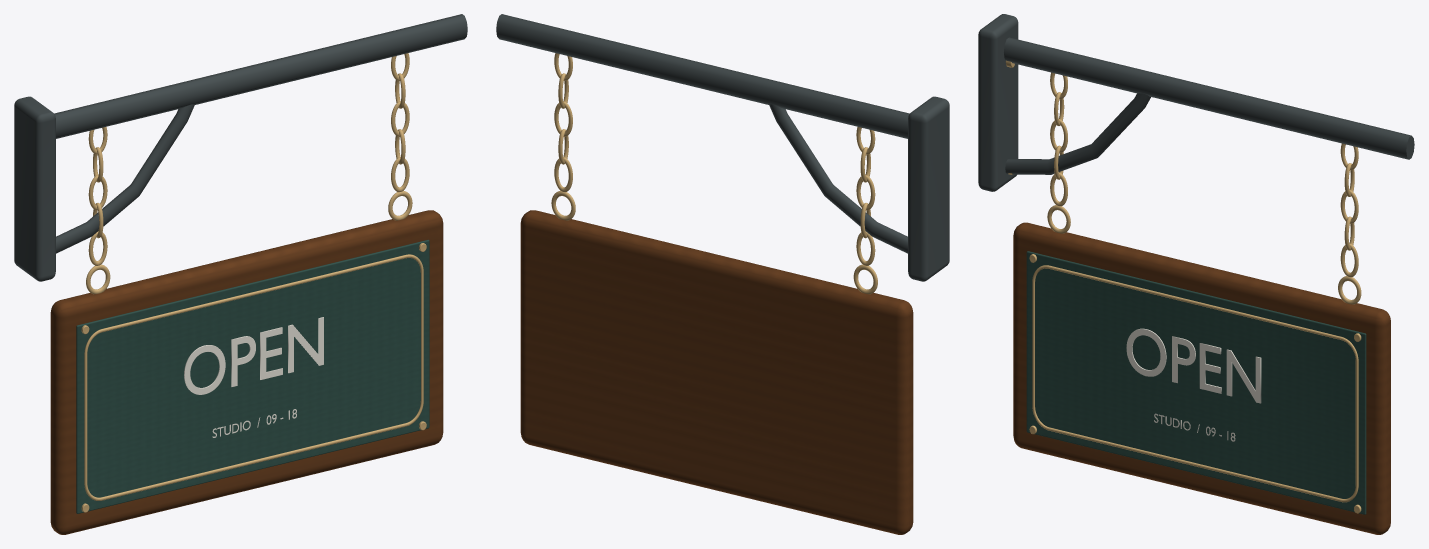
File: hanging_sign.glb
3 renders of one model, left to right at view 1: azimuth 30°, elevation 25°; view 2: azimuth 150°, elevation 25°; view 3: azimuth 330°, elevation 25°, orthographic. The views are drawn at different scales.
Visible parts, largest first — view 1: GEO-Sign recessed enamel face, GEO-Sign oak panel, GEO-Bracket horizontal arm, GEO-Wall bracket backplate, GEO-Thin brass face border, GEO-Shop lettering, GEO-Curved bracket brace; view 2: GEO-Sign oak panel, GEO-Bracket horizontal arm, GEO-Wall bracket backplate, GEO-Curved bracket brace; view 3: GEO-Sign recessed enamel face, GEO-Sign oak panel, GEO-Bracket horizontal arm, GEO-Wall bracket backplate, GEO-Thin brass face border, GEO-Shop lettering, GEO-Curved bracket brace.
Part boxes in pixels (x1,y1,x2,y2): GEO-Sign recessed enamel face: (76, 239, 429, 513); GEO-Sign oak panel: (50, 210, 443, 534); GEO-Bracket horizontal arm: (54, 14, 467, 138); GEO-Wall bracket backplate: (14, 96, 55, 281); GEO-Thin brass face border: (84, 254, 423, 500); GEO-Shop lettering: (184, 317, 323, 394); GEO-Curved bracket brace: (56, 104, 194, 253); GEO-Sign oak panel: (520, 210, 913, 534); GEO-Bracket horizontal arm: (496, 14, 909, 138); GEO-Wall bracket backplate: (908, 96, 949, 281); GEO-Curved bracket brace: (769, 104, 907, 253); GEO-Sign recessed enamel face: (1026, 251, 1366, 514); GEO-Sign oak panel: (1013, 222, 1390, 534); GEO-Bracket horizontal arm: (1004, 37, 1414, 159); GEO-Wall bracket backplate: (978, 14, 1018, 191); GEO-Thin brass face border: (1032, 265, 1358, 502); GEO-Shop lettering: (1126, 328, 1261, 403); GEO-Curved bracket brace: (1005, 93, 1150, 174).
Bounding box in the file's own units: 0.495 × 0.469 × 0.05.
5 materials, 2 textured.
